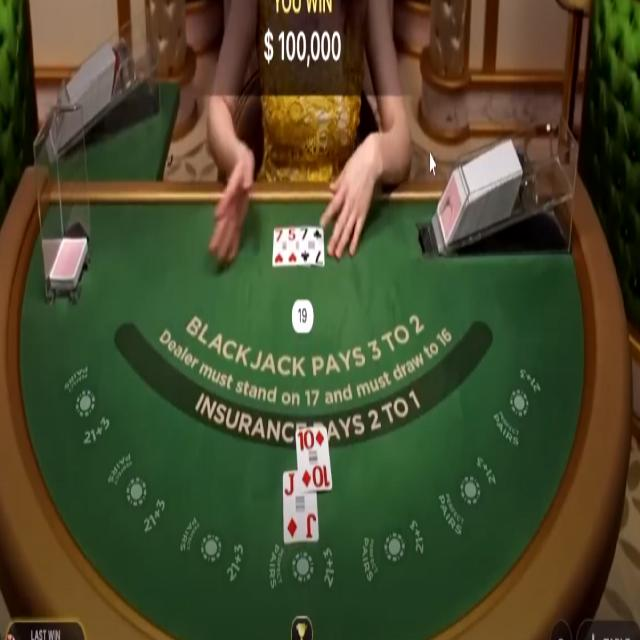Card-10: (296, 426, 332, 493)
Card-5: (287, 226, 299, 266)
Card-7: (299, 226, 324, 267), (272, 227, 286, 267)
Card-J: (283, 470, 318, 543)
